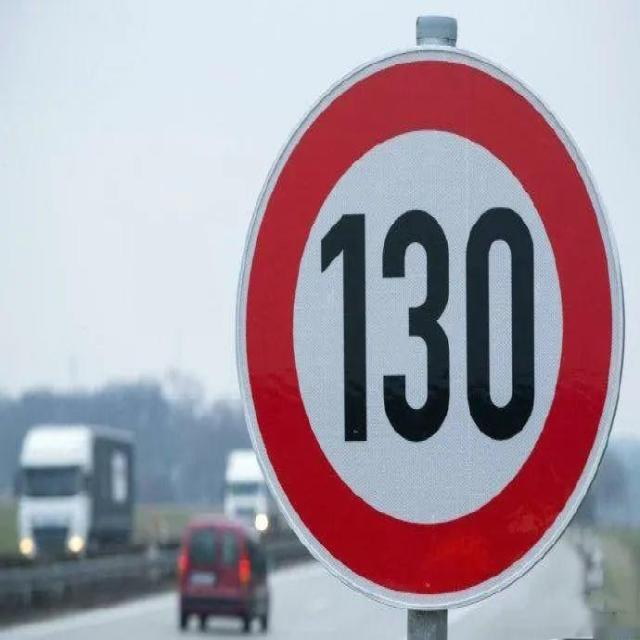speed limit 130: (235, 46, 625, 611)
